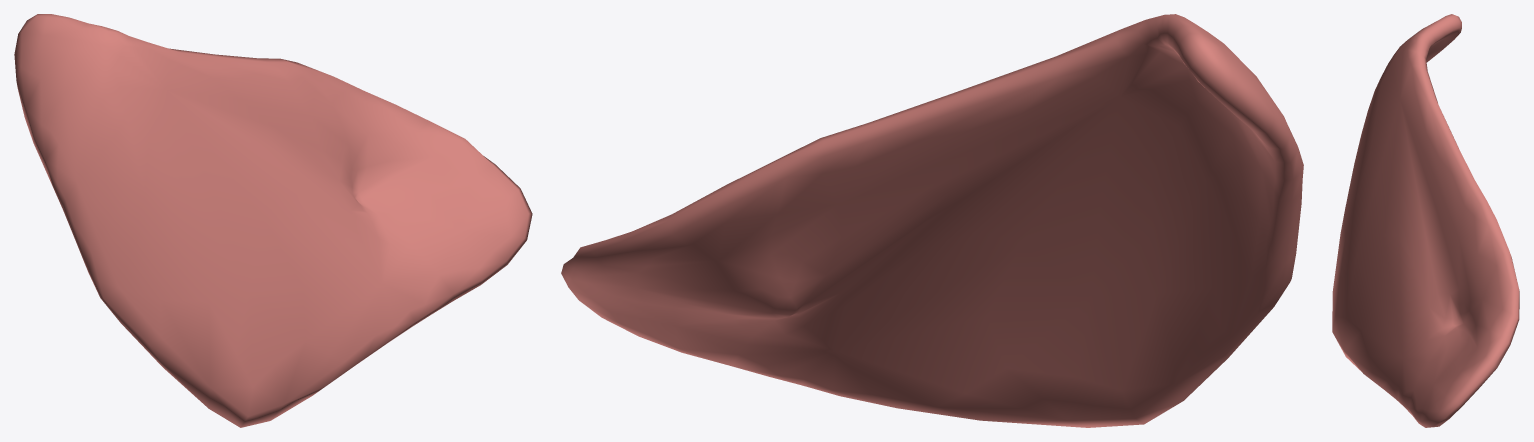
The picture shows the model from 3 angles, left to right: view 1: azimuth 30°, elevation 25°; view 2: azimuth 150°, elevation 25°; view 3: azimuth 270°, elevation 25°; orthographic projection. The views are drawn at different scales.
Visible parts, largest first — view 1: ZA_e56a6b6051e69d10; view 2: ZA_e56a6b6051e69d10; view 3: ZA_e56a6b6051e69d10.
Boxes of the visible parts, x1=… form: ZA_e56a6b6051e69d10: x1=14, y1=14, x2=532, y2=427; ZA_e56a6b6051e69d10: x1=561, y1=14, x2=1303, y2=427; ZA_e56a6b6051e69d10: x1=1332, y1=14, x2=1519, y2=427.
Size of the model in its own units: 0.0113 by 0.00807 by 0.0048.
